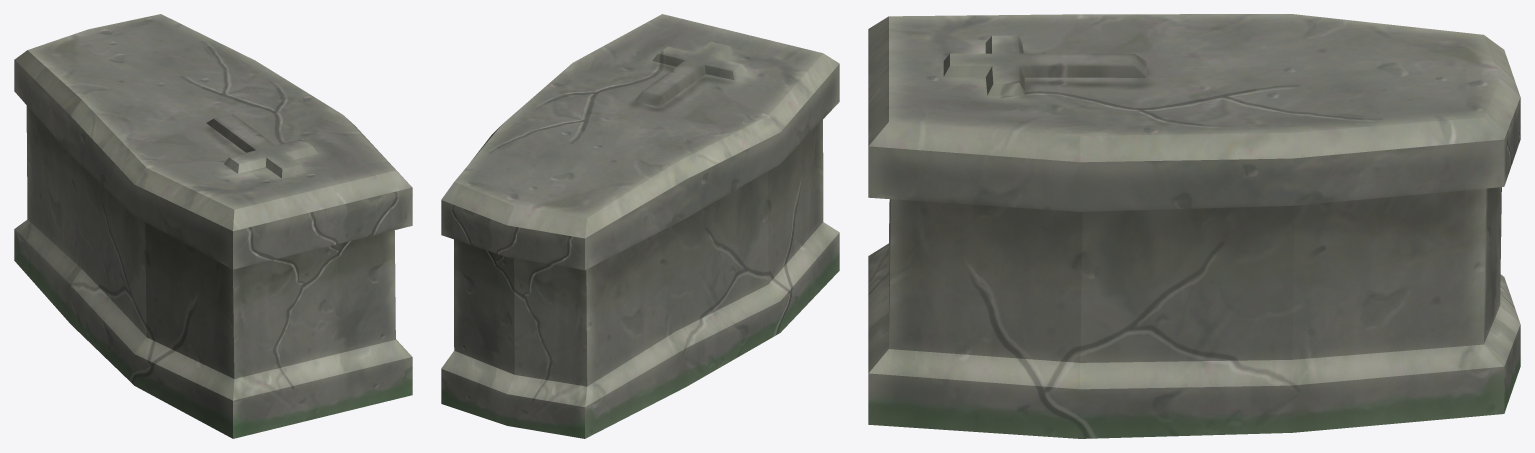
File: Stele03.FBX
The picture shows the model from 3 angles, left to right: view 1: azimuth 30°, elevation 25°; view 2: azimuth 150°, elevation 25°; view 3: azimuth 270°, elevation 25°; orthographic projection. The views are drawn at different scales.
Visible parts, largest first — view 1: Stele03; view 2: Stele03; view 3: Stele03.
Boxes of the visible parts, x1,y1,x2,y2 form: Stele03: (14, 14, 412, 438); Stele03: (441, 14, 839, 438); Stele03: (868, 14, 1520, 438).
Bounding box in the file's own units: 16.98 × 16.78 × 32.43.
